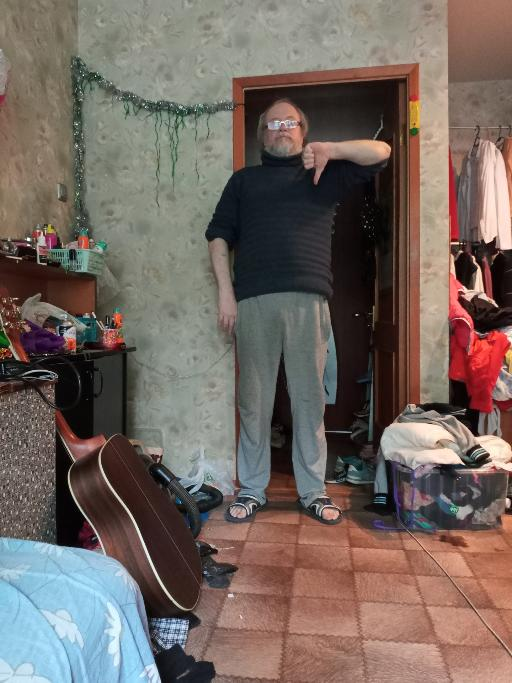dislike: (300, 139, 330, 186)
no_gesture: (216, 294, 239, 336)
